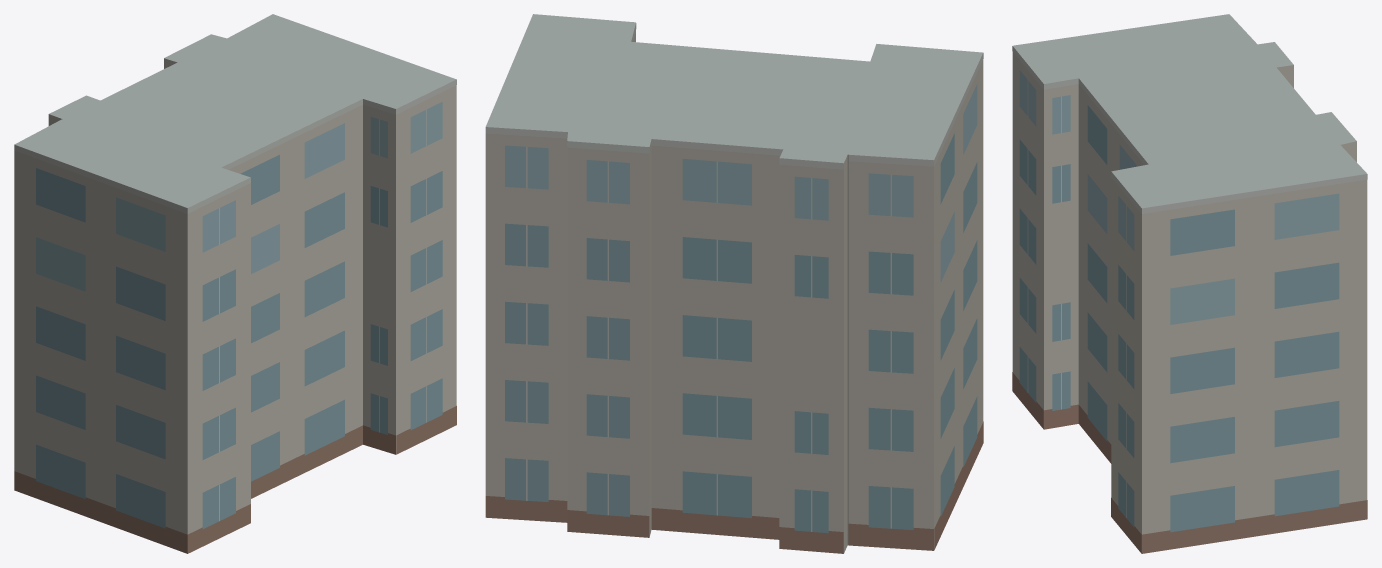
The model's file is survey-upis-32796586.glb.
3 renders of one model, left to right at view 1: azimuth 30°, elevation 25°; view 2: azimuth 150°, elevation 25°; view 3: azimuth 270°, elevation 25°, orthographic. The views are drawn at different scales.
Parts seen in each view (by area): view 1: survey-upis-32796586.tmp; view 2: survey-upis-32796586.tmp; view 3: survey-upis-32796586.tmp.
Boxes of the visible parts, <box> form: survey-upis-32796586.tmp: <box>14,14,456,553</box>; survey-upis-32796586.tmp: <box>485,14,983,553</box>; survey-upis-32796586.tmp: <box>1012,14,1367,553</box>.
Size of the model in its own units: 17.99 by 14.9 by 13.89.
